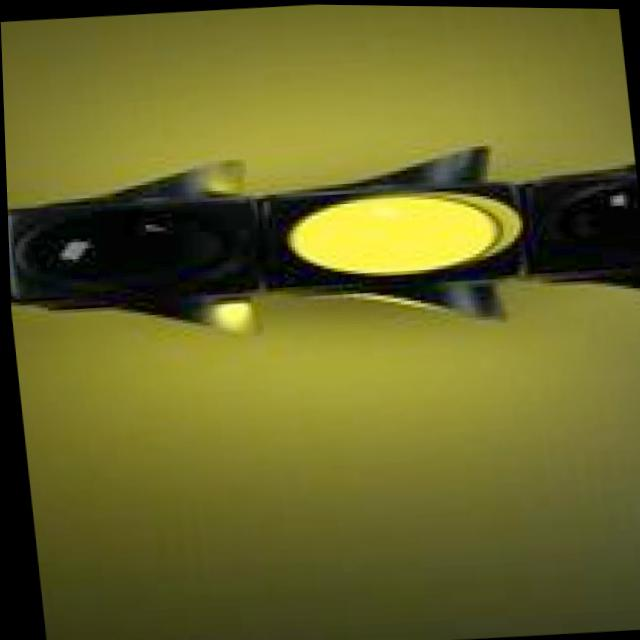yellow_light: (273, 140, 527, 337)
